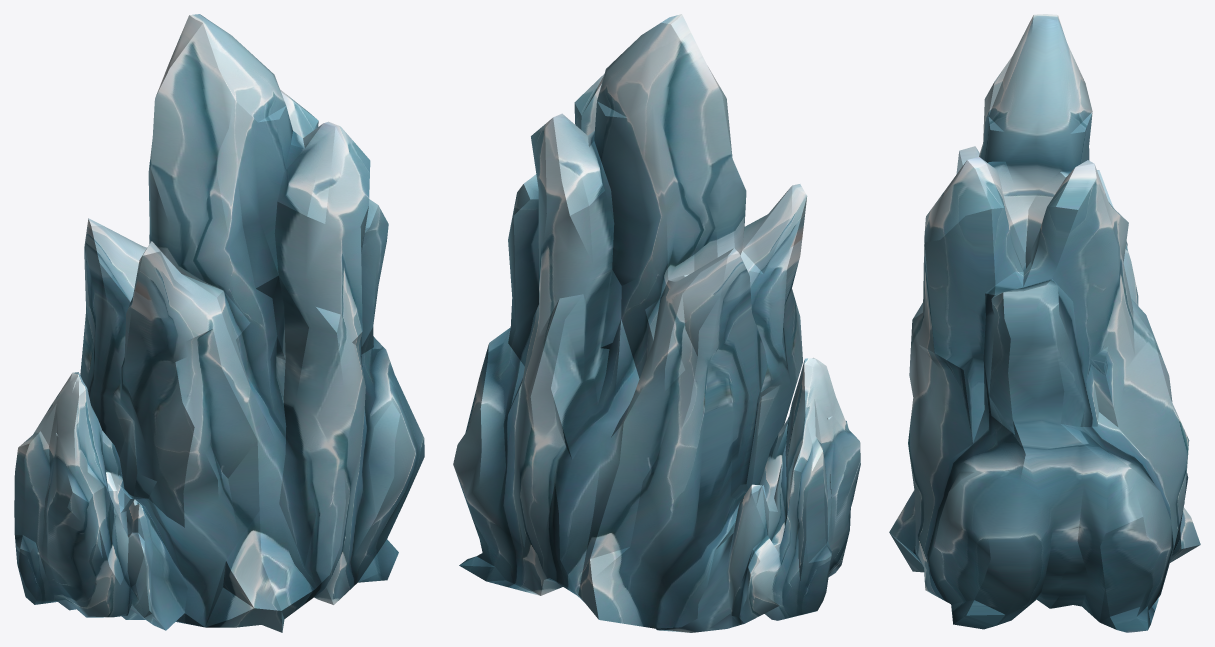
The model's file is IceBlock.fbx.
3 renders of one model, left to right at view 1: azimuth 30°, elevation 25°; view 2: azimuth 150°, elevation 25°; view 3: azimuth 270°, elevation 25°, orthographic. The views are drawn at different scales.
Visible parts, largest first — view 1: IceCluster; view 2: IceCluster; view 3: IceCluster.
Boxes of the visible parts, box(x1,y1,x2,y2) form: IceCluster: box(14, 14, 424, 632); IceCluster: box(453, 14, 860, 632); IceCluster: box(889, 14, 1200, 632).
Size of the model in its own units: 66.83 by 99.78 by 50.79.
Materials: 1 (1 with a texture image).
